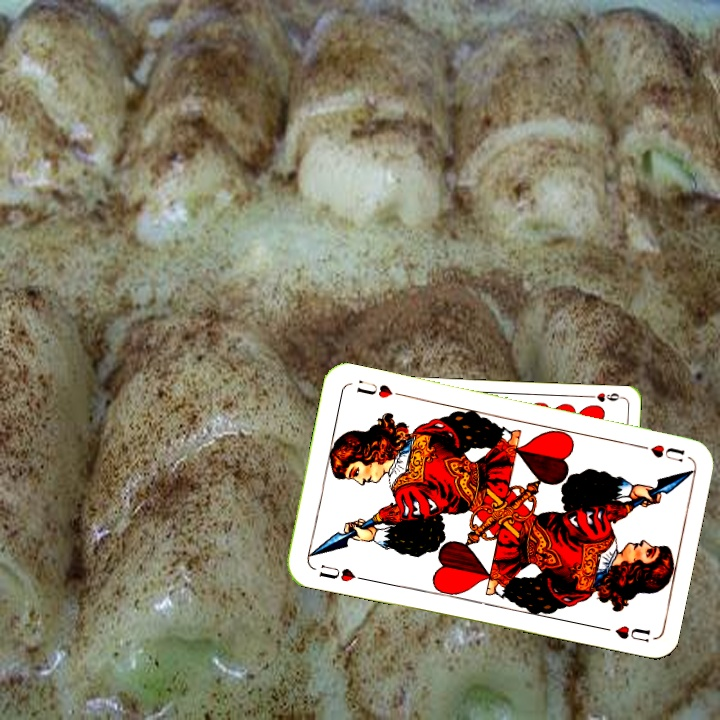H9: (584, 389, 625, 404)
HU: (631, 439, 688, 465), (314, 560, 368, 585)
